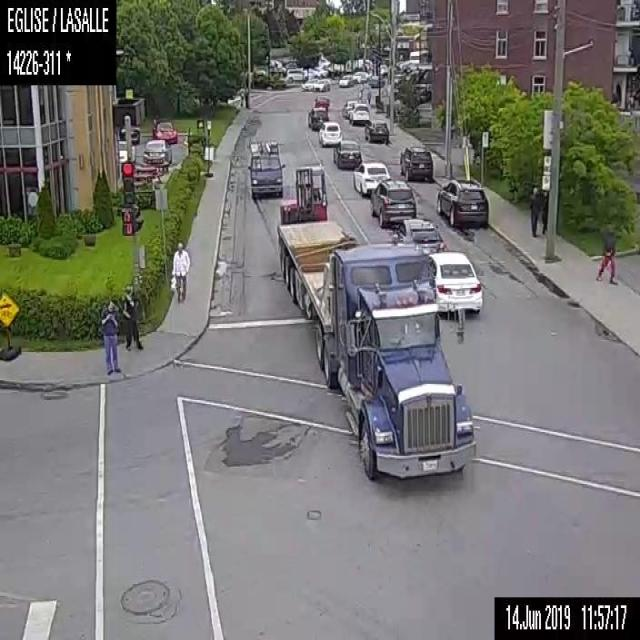pedestrian: (100, 300, 121, 376), (120, 283, 143, 352), (170, 240, 189, 305), (595, 232, 618, 284), (538, 184, 551, 236), (528, 185, 539, 238), (366, 87, 371, 106)
vehicle: (272, 163, 477, 482), (428, 248, 483, 312), (435, 173, 489, 227), (246, 138, 284, 198), (369, 178, 417, 225), (393, 218, 445, 255), (353, 158, 390, 192), (399, 145, 433, 180), (150, 116, 180, 144), (332, 142, 364, 168), (143, 139, 171, 166), (364, 117, 389, 144), (317, 121, 340, 147), (116, 138, 136, 164), (307, 105, 327, 128), (348, 102, 369, 122), (287, 67, 308, 82), (314, 91, 331, 107), (302, 77, 318, 91), (368, 73, 383, 87), (312, 77, 329, 89), (339, 73, 353, 87), (352, 70, 368, 82), (343, 100, 353, 115)
